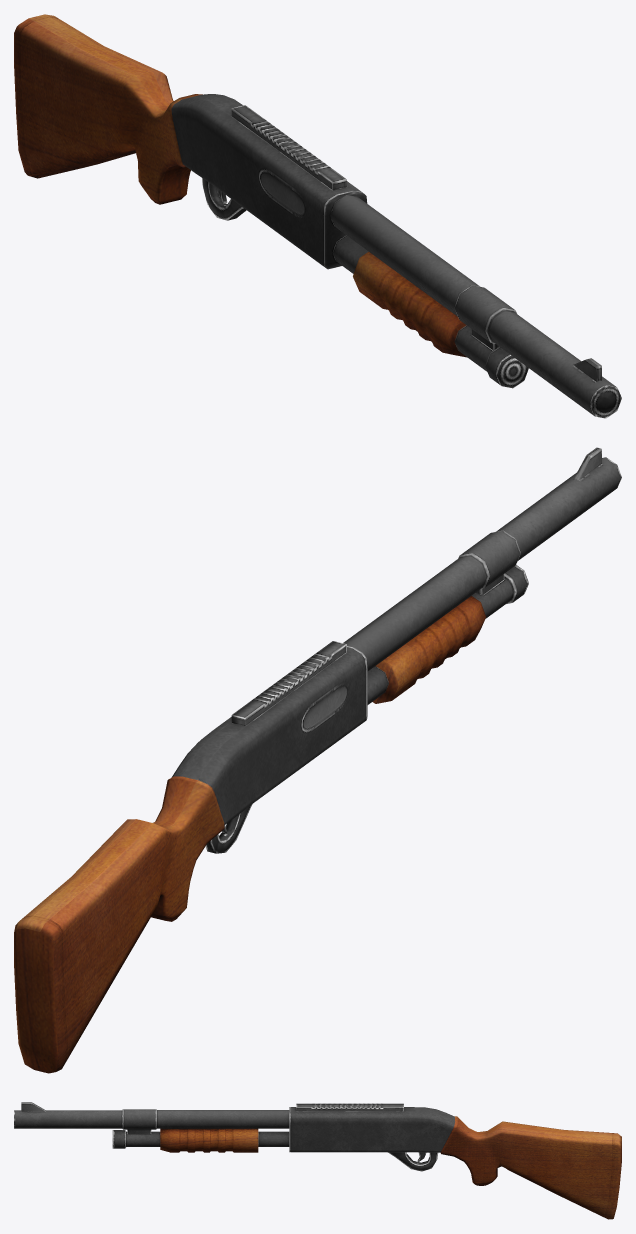
Rendered from ShotGun.fbx.
The picture shows the model from 3 angles, top to bottom: view 1: azimuth 30°, elevation 25°; view 2: azimuth 150°, elevation 25°; view 3: azimuth 270°, elevation 25°; orthographic projection. The views are drawn at different scales.
Parts seen in each view (by area): view 1: shotGunBody, shotGun_Pump; view 2: shotGunBody, shotGun_Pump; view 3: shotGunBody, shotGun_Pump.
Part boxes in pixels (<box>): shotGunBody: <box>14,14,621,418</box>; shotGun_Pump: <box>353,251,466,357</box>; shotGunBody: <box>14,447,621,1073</box>; shotGun_Pump: <box>372,596,485,703</box>; shotGunBody: <box>14,1102,621,1219</box>; shotGun_Pump: <box>160,1128,258,1152</box>.
Bounding box in the file's own units: 0.5935 × 2.67 × 12.88.
Materials: 1 (1 with a texture image).
